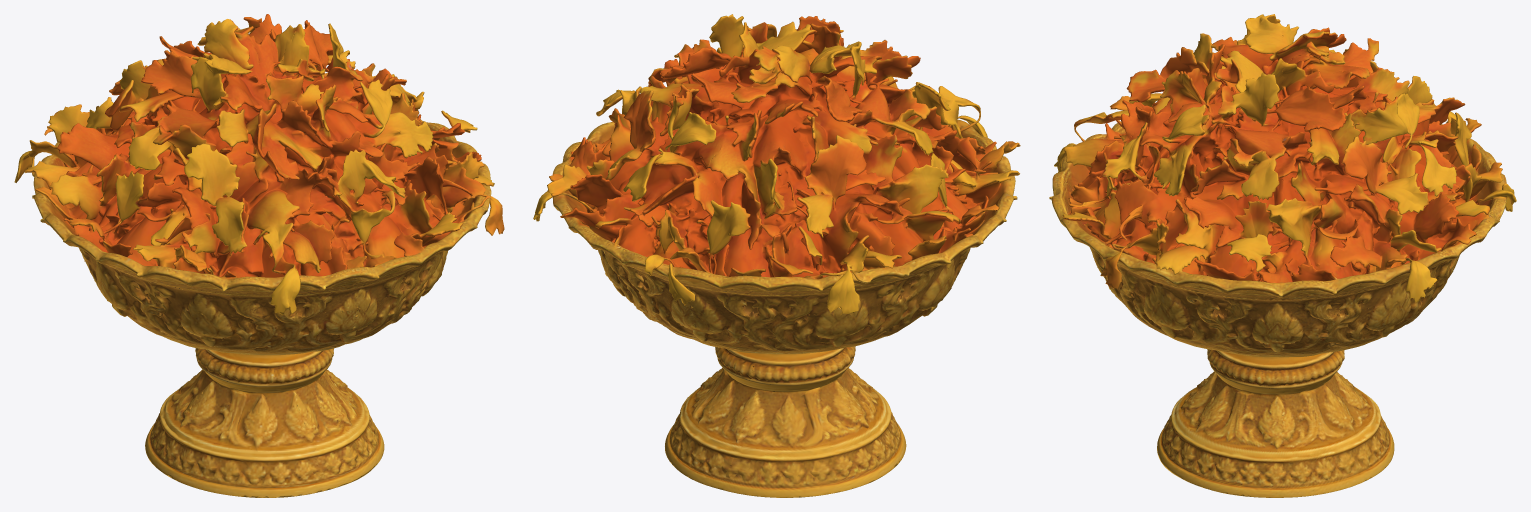
Rendered from tripo-petalbowl2-150k.glb.
3 views of the same model, side by side, from view 1: azimuth 30°, elevation 25°; view 2: azimuth 150°, elevation 25°; view 3: azimuth 270°, elevation 25° (orthographic). The views are drawn at different scales.
Parts seen in each view (by area): view 1: tripo_node_1ddbded3-4e79-4a4e-8938-67a904e2f7e9; view 2: tripo_node_1ddbded3-4e79-4a4e-8938-67a904e2f7e9; view 3: tripo_node_1ddbded3-4e79-4a4e-8938-67a904e2f7e9.
Part boxes in pixels (<box>): tripo_node_1ddbded3-4e79-4a4e-8938-67a904e2f7e9: <box>14,14,504,497</box>; tripo_node_1ddbded3-4e79-4a4e-8938-67a904e2f7e9: <box>533,14,1020,497</box>; tripo_node_1ddbded3-4e79-4a4e-8938-67a904e2f7e9: <box>1049,14,1516,497</box>.
Size of the model in its own units: 0.9648 by 0.9488 by 0.9803.
1 material, 1 textured.
